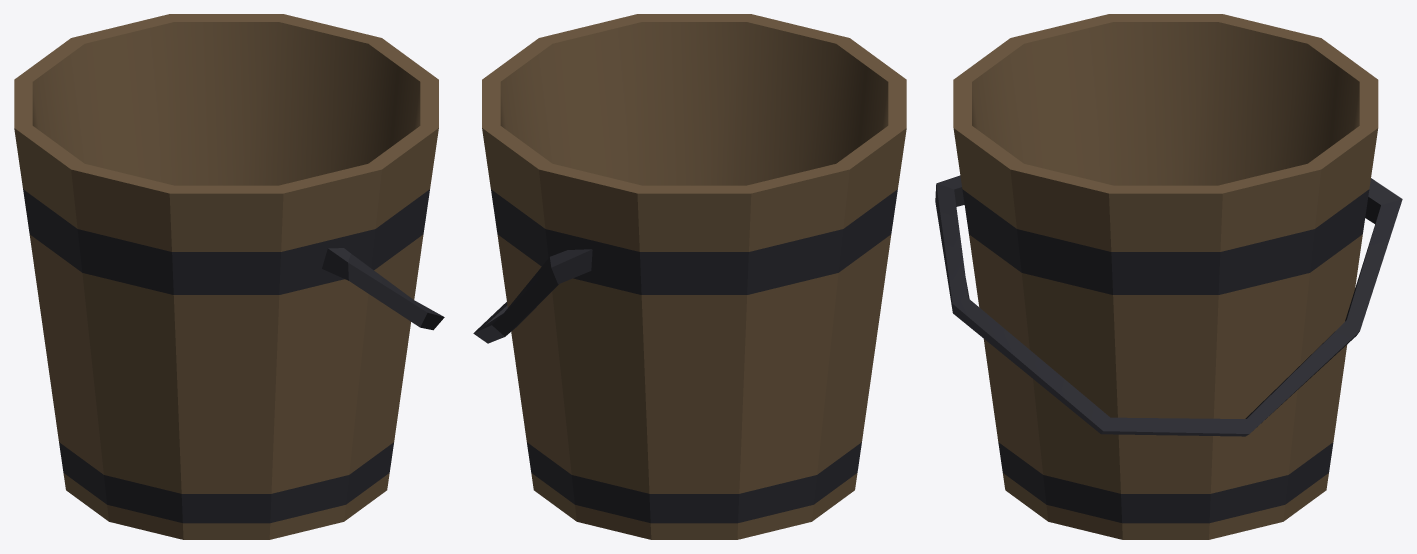
The model's file is Bucket.fbx.
The picture shows the model from 3 angles, left to right: view 1: azimuth 30°, elevation 25°; view 2: azimuth 150°, elevation 25°; view 3: azimuth 270°, elevation 25°; orthographic projection.
Parts seen in each view (by area): view 1: pCube2437; view 2: pCube2437; view 3: pCube2437.
Boxes of the visible parts, <box> form: pCube2437: <box>14,14,444,539</box>; pCube2437: <box>473,14,906,539</box>; pCube2437: <box>935,14,1402,539</box>.
Bounding box in the file's own units: 44.71 × 42.43 × 48.79.
